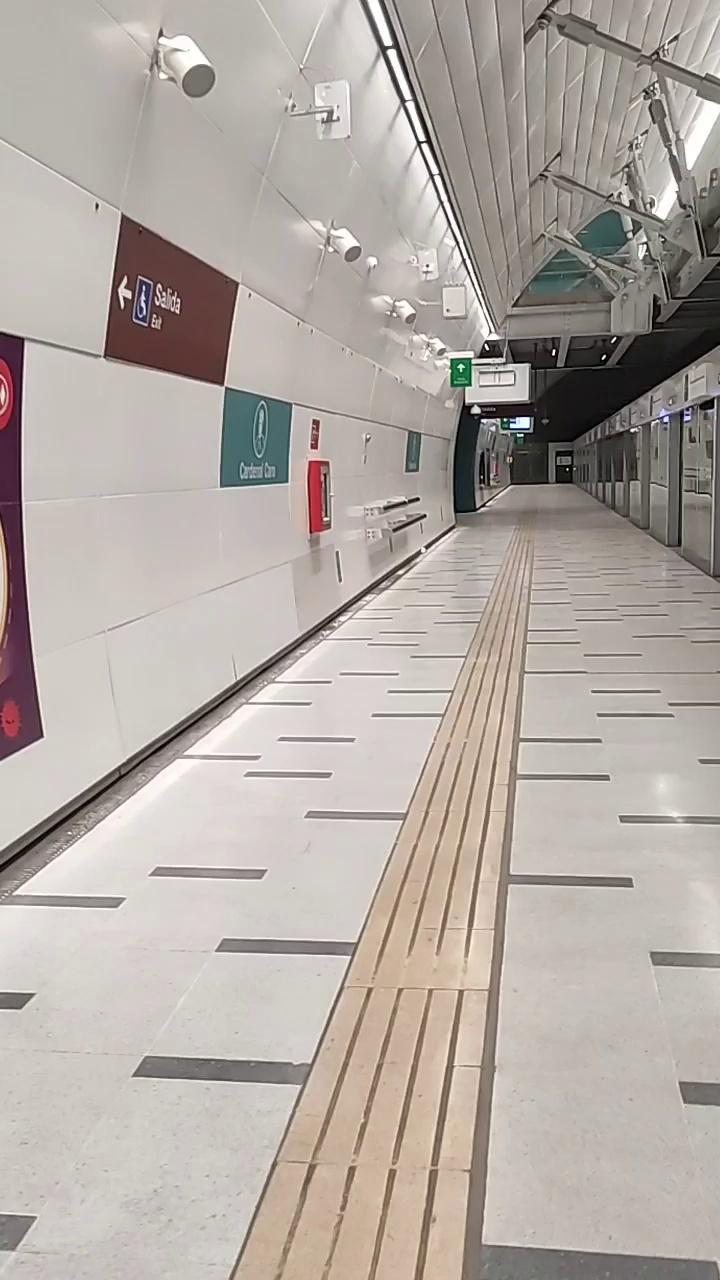emergency up arrow: (455, 363, 468, 374)
handicapped symbol: (136, 284, 147, 320)
left arrow: (116, 274, 132, 312)
